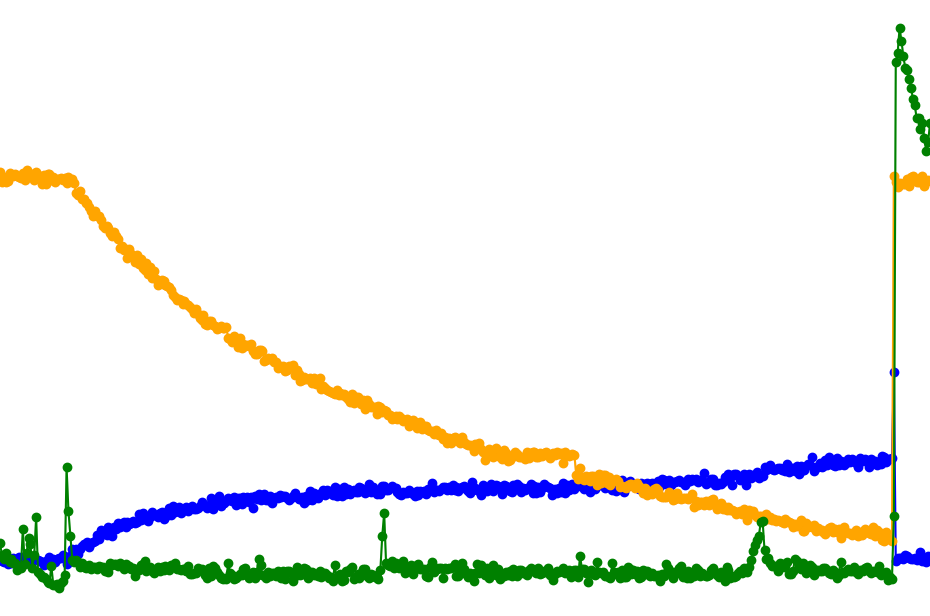CO2 Problem: (91, 0, 228, 616), (502, 0, 593, 616)
Condensation (CO2): (593, 0, 867, 616), (228, 0, 365, 616), (593, 0, 730, 616)
High CO2: (410, 0, 593, 616), (867, 0, 930, 616)
Lid Open: (867, 0, 930, 616)
Low O2: (593, 0, 867, 616), (867, 0, 930, 616)
Normal: (228, 0, 593, 616), (502, 0, 867, 616), (593, 0, 930, 616), (273, 0, 593, 616), (228, 0, 547, 616), (91, 0, 365, 616), (593, 0, 867, 616), (0, 0, 228, 616), (593, 0, 821, 616), (91, 0, 228, 616), (228, 0, 365, 616), (273, 0, 410, 616), (410, 0, 502, 616), (0, 0, 91, 616), (502, 0, 593, 616), (867, 0, 930, 616)
O2 Problem: (410, 0, 593, 616), (593, 0, 730, 616), (273, 0, 365, 616), (502, 0, 593, 616)
